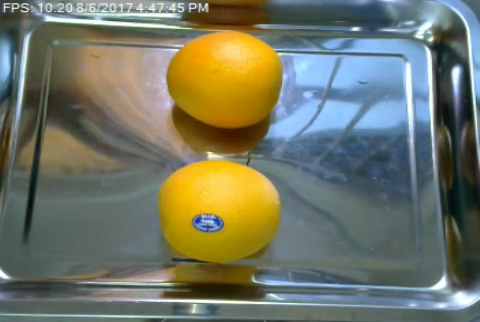Orange: (157, 161, 282, 261), (166, 30, 283, 127)
